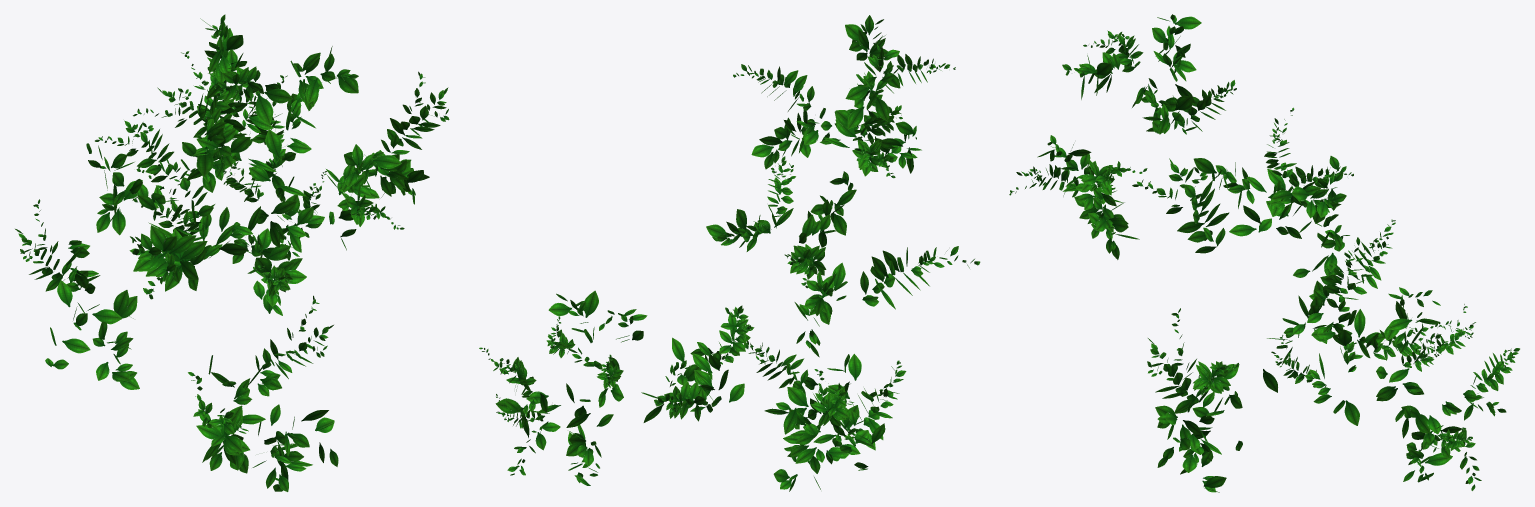
File: Tree_LEAVES_separate.fbx
The picture shows the model from 3 angles, left to right: view 1: azimuth 30°, elevation 25°; view 2: azimuth 150°, elevation 25°; view 3: azimuth 270°, elevation 25°; orthographic projection. The views are drawn at different scales.
Bounding box in the file's own units: 1317 × 1758 × 1824.
Materials: 1 (1 with a texture image).
